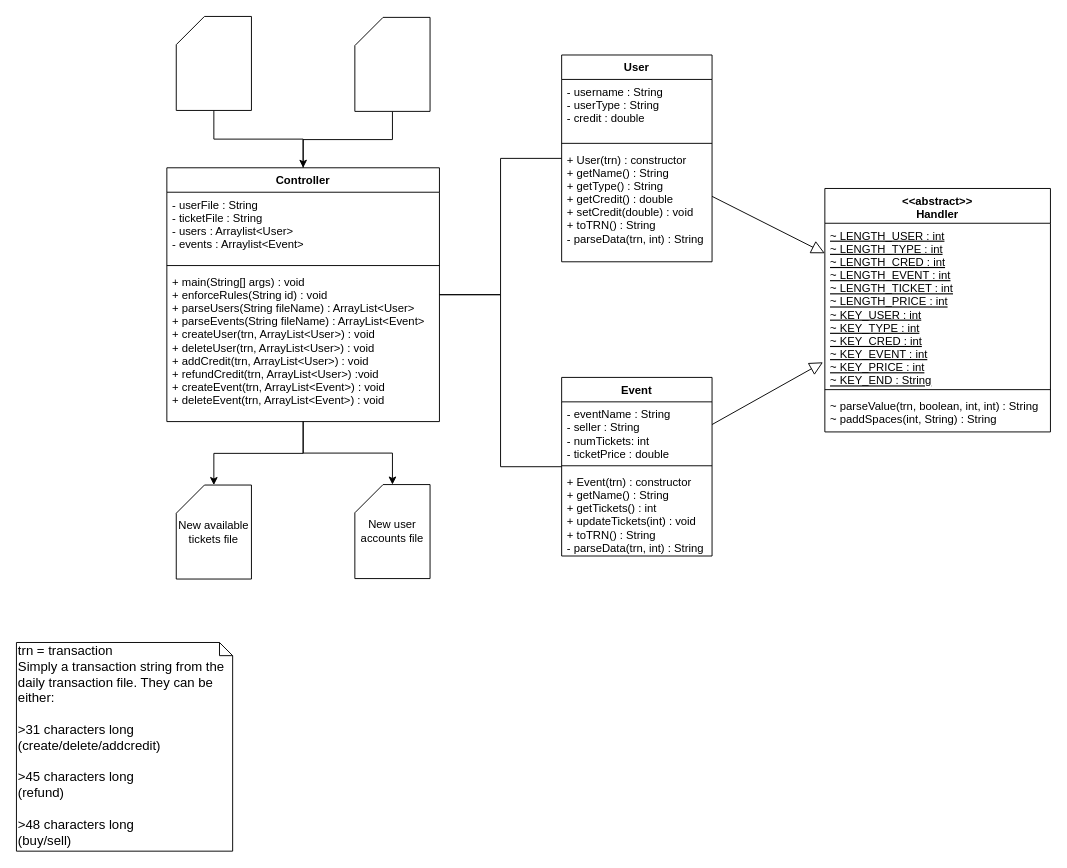
Some shapes in this 1067 by 868 pixel diagram are drawn without their labels. Here are the shapes that lost their labels. From the top down, the centre of each, then its label:
the point at 213,63: Old available tickets file
the point at 392,63: Old user accounts file
